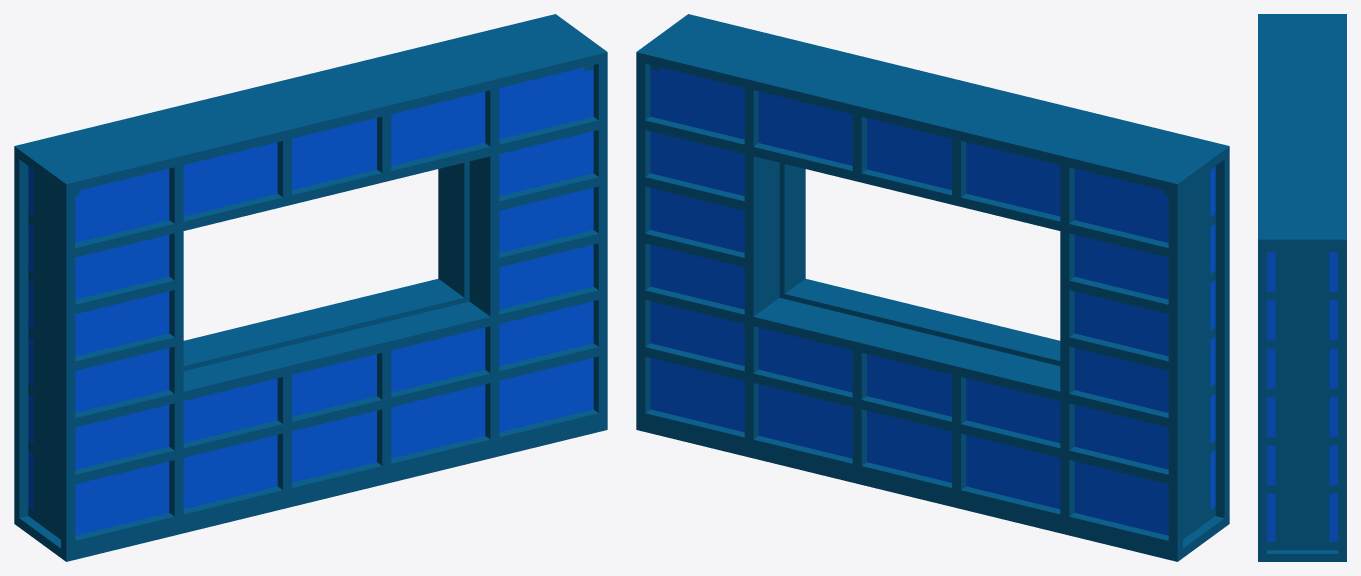
File: Blue Wall 5.obj
The picture shows the model from 3 angles, left to right: view 1: azimuth 30°, elevation 25°; view 2: azimuth 150°, elevation 25°; view 3: azimuth 270°, elevation 25°; orthographic projection. The views are drawn at different scales.
Size of the model in its own units: 60 by 40 by 10.
Materials: 1 (1 with a texture image).
